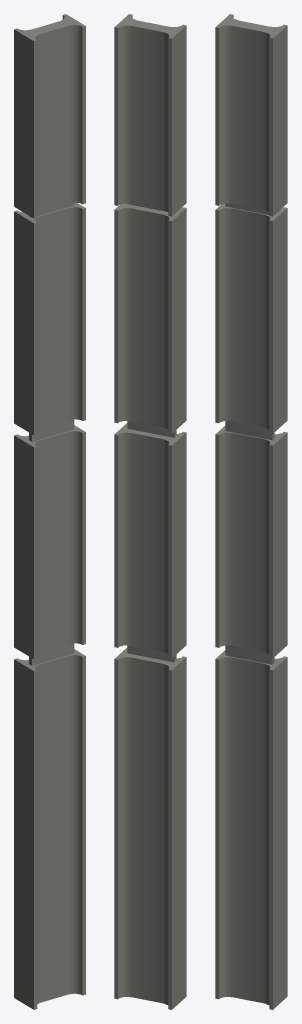
Rendered from metal_rod_spec_02.fbx.
The picture shows the model from 3 angles, left to right: view 1: azimuth 30°, elevation 25°; view 2: azimuth 150°, elevation 25°; view 3: azimuth 330°, elevation 25°; orthographic projection.
Visible parts, largest first — view 1: metal_rod_spec_02; view 2: metal_rod_spec_02; view 3: metal_rod_spec_02.
Part boxes in pixels (<box>): metal_rod_spec_02: <box>14,14,85,1009</box>; metal_rod_spec_02: <box>114,14,186,1009</box>; metal_rod_spec_02: <box>215,14,287,1009</box>.
Size of the model in its own units: 16.5 by 267 by 9.99.
